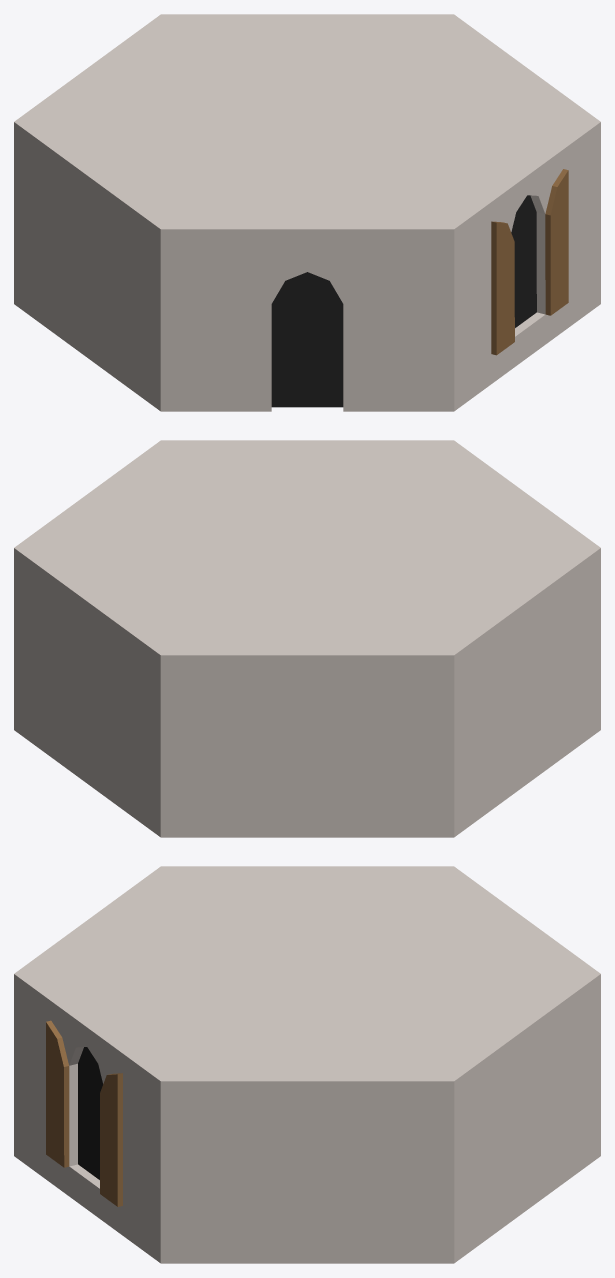
The model's file is RPG_Tiles_Hex_Building_Door_04.FBX.
The picture shows the model from 3 angles, top to bottom: view 1: azimuth 30°, elevation 25°; view 2: azimuth 150°, elevation 25°; view 3: azimuth 270°, elevation 25°; orthographic projection.
Visible parts, largest first — view 1: RPG_Tiles_Hex_Building_Door_04; view 2: RPG_Tiles_Hex_Building_Door_04; view 3: RPG_Tiles_Hex_Building_Door_04.
Part boxes in pixels (x1,y1,x2,y2): RPG_Tiles_Hex_Building_Door_04: (14,14,600,411); RPG_Tiles_Hex_Building_Door_04: (14,440,600,837); RPG_Tiles_Hex_Building_Door_04: (14,866,600,1263).
Bounding box in the file's own units: 3000 × 1186 × 3464.
